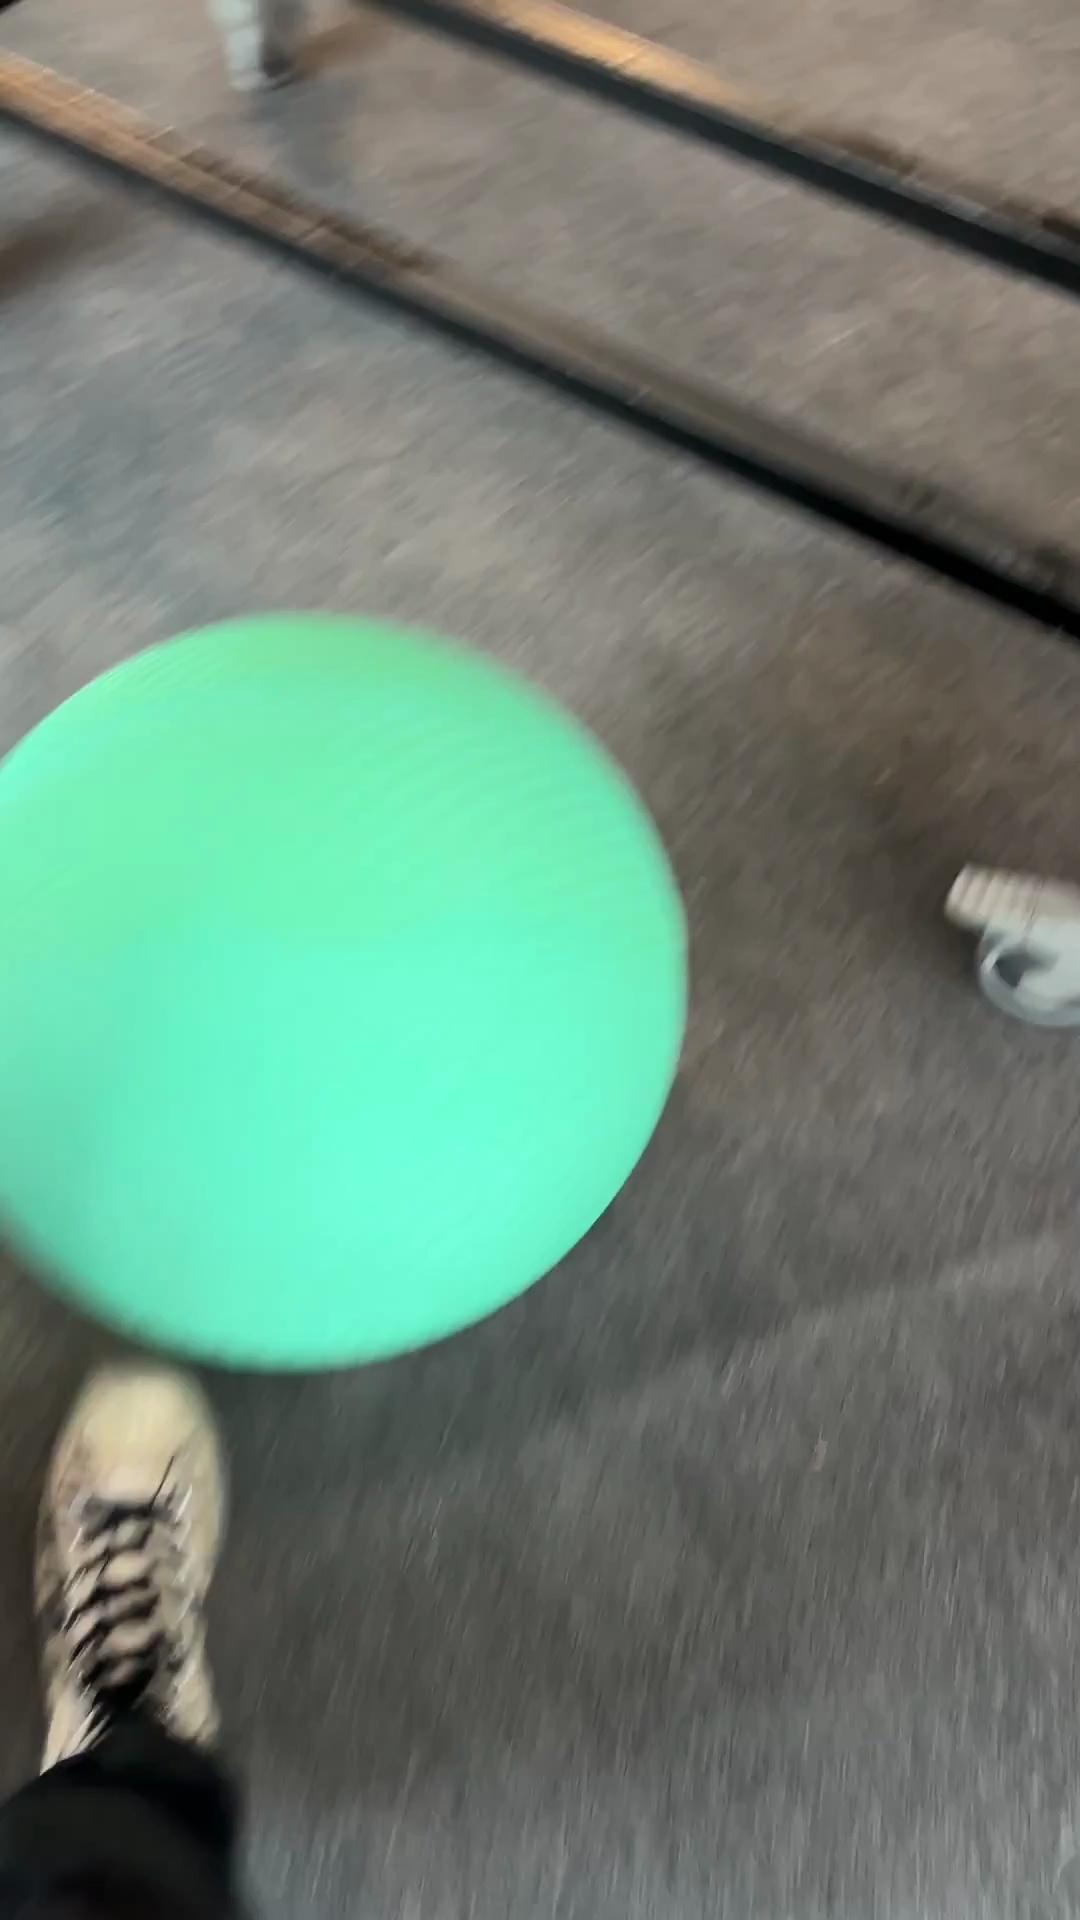ALGAE: (1, 606, 691, 1376)
